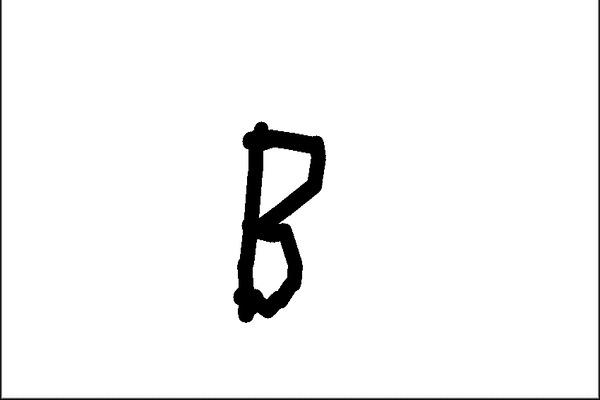B: (226, 117, 331, 327)
